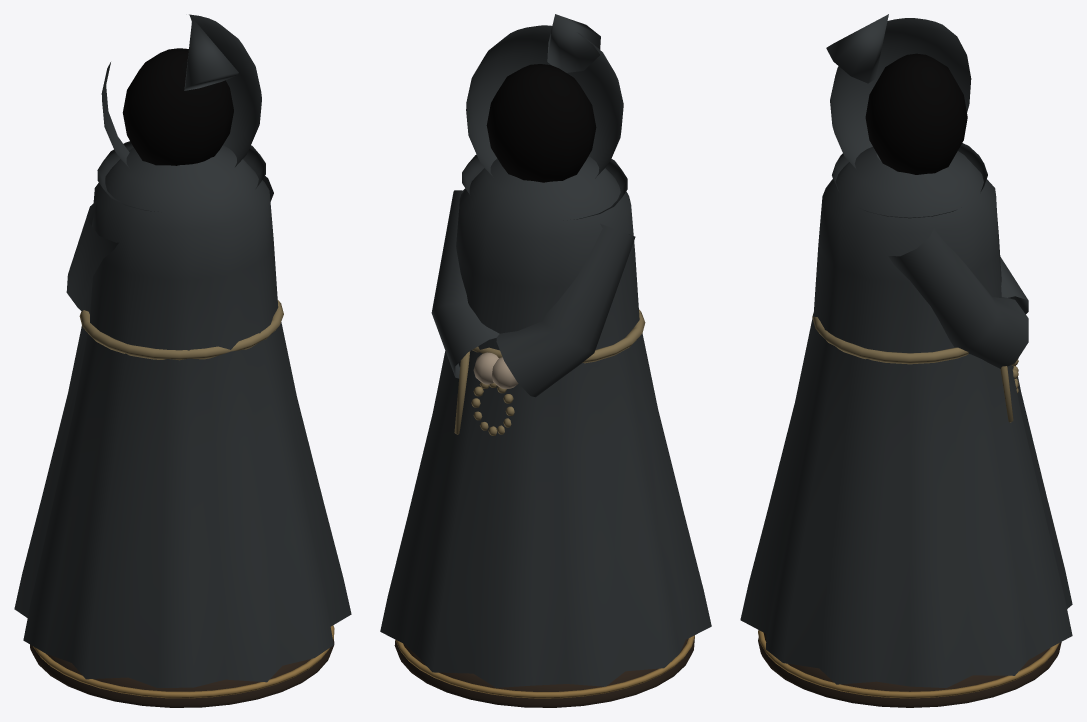
Rendered from stranger_b.glb.
3 renders of one model, left to right at view 1: azimuth 30°, elevation 25°; view 2: azimuth 150°, elevation 25°; view 3: azimuth 270°, elevation 25°, orthographic.
Visible parts, largest first — view 1: Robe, Base; view 2: Robe, Base; view 3: Robe, Base.
Boxes of the visible parts, x1=… form: Robe: x1=14, y1=14, x2=351, y2=687; Base: x1=30, y1=625, x2=334, y2=707; Robe: x1=380, y1=14, x2=711, y2=687; Base: x1=394, y1=635, x2=694, y2=707; Robe: x1=740, y1=14, x2=1072, y2=687; Base: x1=758, y1=630, x2=1061, y2=707.
Bounding box in the file's own units: 0.9621 × 2.08 × 0.9945.
